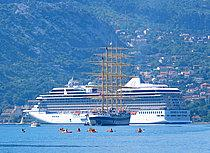Ship: (21, 75, 197, 129)
